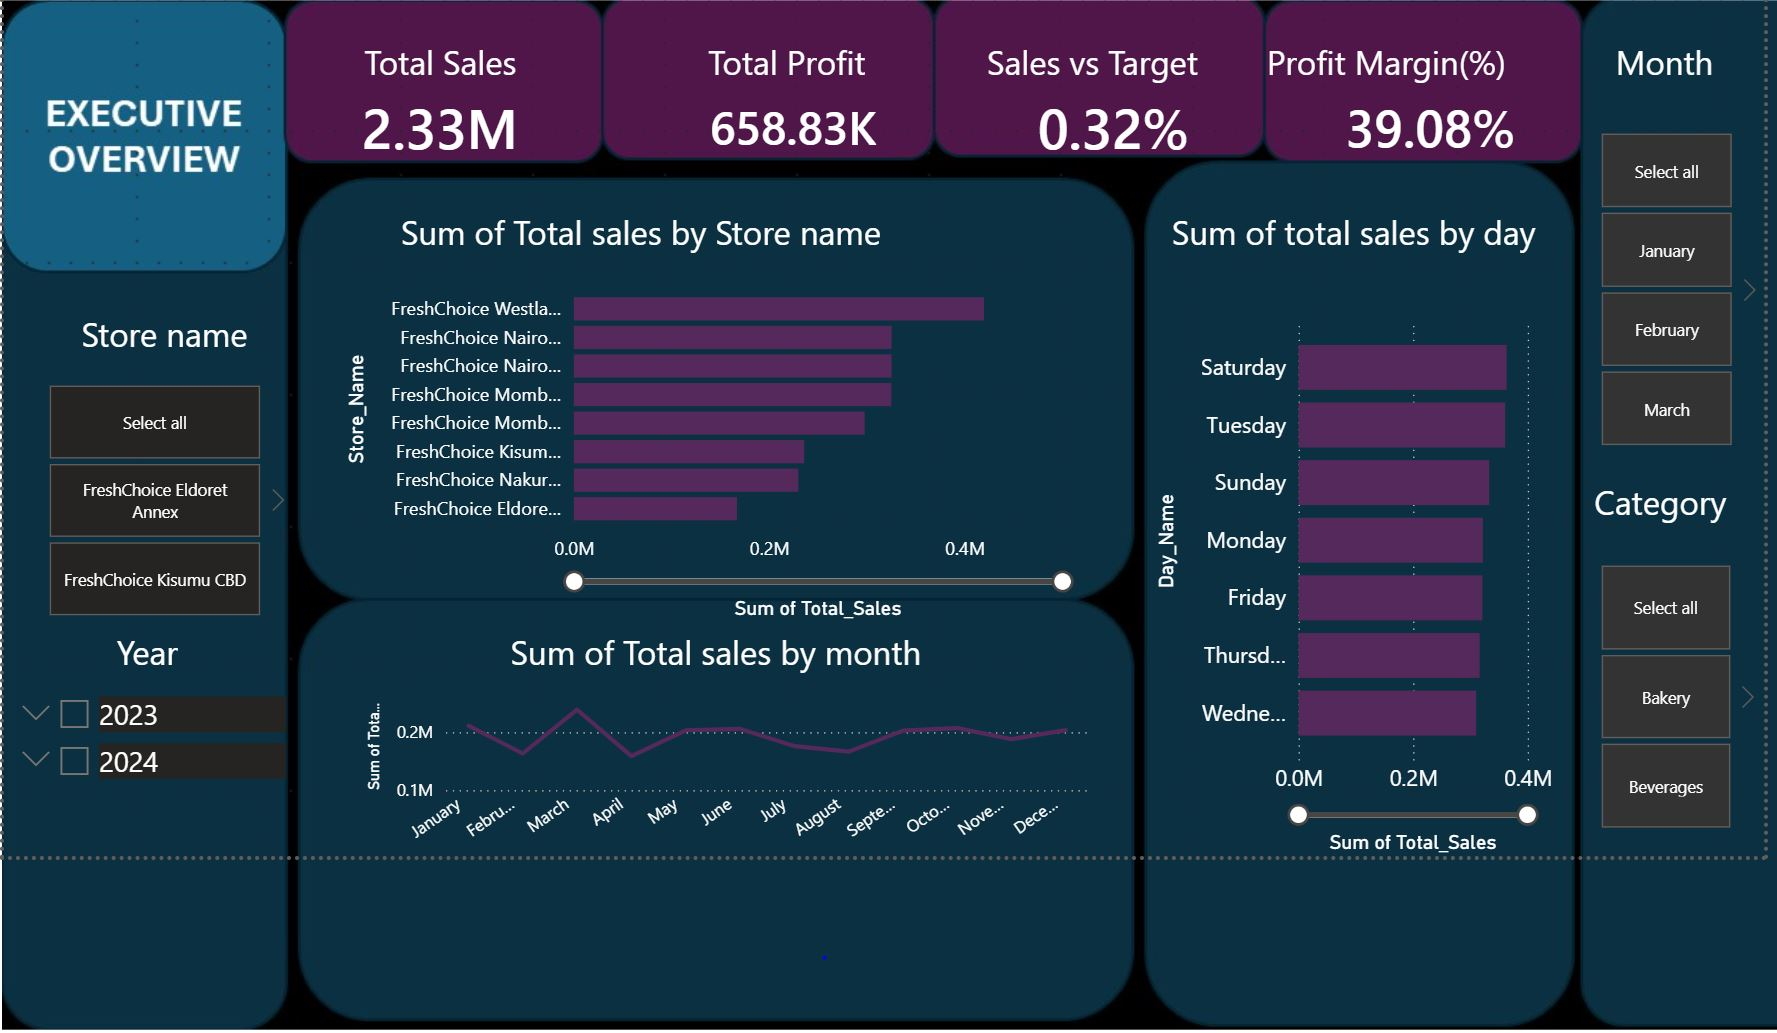

What the dashboard file says about the page in this screenshot:
{"tool":"powerbi","page":{"name":"Page 5","canvas":[1280,720],"ordinal":4},"visuals":[{"type":"cardVisual","fields":{"Data":["Sum(Sales.Total_Sales)"]},"box":[231.1,32.4,183,92],"z":0},{"type":"cardVisual","fields":{"Data":["Sales.Total profit"]},"box":[472.7,29.3,183,92],"z":4},{"type":"cardVisual","fields":{"Data":["Calendar.sales vs target"]},"box":[699.6,32.4,183,92],"z":5},{"type":"cardVisual","fields":{"Data":["Sales.Profit margin percentage"]},"box":[929.7,29.3,183,92],"z":6},{"type":"textbox","box":[231.1,7.3,182,43.9],"z":7},{"type":"textbox","box":[472.7,7.3,177.8,43.9],"z":8},{"type":"textbox","box":[710.1,7.3,195.6,43.9],"z":9},{"type":"textbox","box":[914,7.3,214.4,43.9],"z":10},{"type":"slicer","fields":{"Values":["Stores.Store_Name"]},"box":[12.5,238.4,197.6,241.6],"z":11},{"type":"slicer","fields":{"Values":["Calendar.Month_Name"]},"box":[1127.3,51.2,152.7,266.7],"z":12},{"type":"textbox","box":[12.5,190.3,197.6,48.1],"z":13},{"type":"textbox","box":[1128.4,7.3,151.6,71.1],"z":14},{"type":"clusteredBarChart","fields":{"Category":["Stores.Store_Name"],"Y":["Sum(Sales.Total_Sales)"]},"box":[243.7,154.8,546.9,259.3],"z":15},{"type":"textbox","box":[283.4,124.4,509.3,50.2],"z":16},{"type":"slicer","fields":{"Values":["Products.Category"]},"box":[1126.3,414.1,153.7,291.8],"z":17},{"type":"slicer","fields":{"Values":["Calendar.YearMonth.Variation.Date Hierarchy.Year","Calendar.YearMonth.Variation.Date Hierarchy.Quarter","Calendar.YearMonth.Variation.Date Hierarchy.Month","Calendar.YearMonth.Variation.Date Hierarchy.Day"]},"box":[12.5,546.9,197.6,174.6],"z":18},{"type":"textbox","box":[12.5,496.7,171.5,50.2],"z":19},{"type":"textbox","box":[1128.4,359.7,152.7,54.4],"z":20},{"type":"lineChart","fields":{"Y":["Sum(Sales.Total_Sales)"],"Category":["Calendar.Month_Name"]},"box":[243.7,470.6,546.9,251],"z":21},{"type":"textbox","box":[243.7,431.9,520.8,48.1],"z":22},{"type":"clusteredBarChart","fields":{"Category":["Calendar.Day_Name"],"Y":["Sum(Sales.Total_Sales)"]},"box":[822,165.2,304.3,555.3],"z":23},{"type":"textbox","box":[831.4,121.3,294.9,63.8],"z":24}]}

Visuals, with their boxes on the page's 1280x720 design canvas (x1, y1, x2, y2). These are canvas units, not pixel positions in the 1777x1033 screenshot, which may show the page scaled, cropped or inside an application window:
cardVisual - Sum(Sales.Total_Sales): 231/32/414/124
cardVisual - Sales.Total profit: 473/29/656/121
cardVisual - Calendar.sales vs target: 700/32/883/124
cardVisual - Sales.Profit margin percentage: 930/29/1113/121
textbox: 231/7/413/51
textbox: 473/7/650/51
textbox: 710/7/906/51
textbox: 914/7/1128/51
slicer - Stores.Store_Name: 12/238/210/480
slicer - Calendar.Month_Name: 1127/51/1280/318
textbox: 12/190/210/238
textbox: 1128/7/1280/78
clusteredBarChart - Stores.Store_Name x Sum(Sales.Total_Sales): 244/155/791/414
textbox: 283/124/793/175
slicer - Products.Category: 1126/414/1280/706
slicer - Calendar.YearMonth.Variation.Date Hierarchy.Year x Calendar.YearMonth.Variation.Date Hierarchy.Quarter: 12/547/210/722
textbox: 12/497/184/547
textbox: 1128/360/1281/414
lineChart - Sum(Sales.Total_Sales) x Calendar.Month_Name: 244/471/791/722
textbox: 244/432/764/480
clusteredBarChart - Calendar.Day_Name x Sum(Sales.Total_Sales): 822/165/1126/720
textbox: 831/121/1126/185
